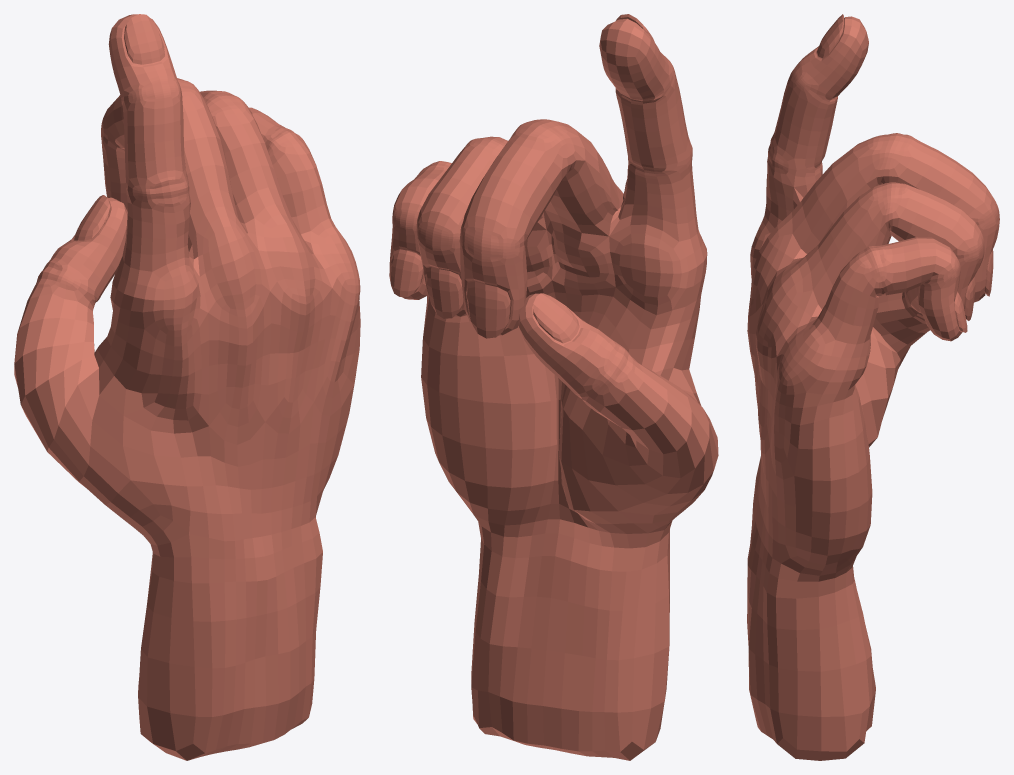
File: dhaal.glb
The picture shows the model from 3 angles, left to right: view 1: azimuth 30°, elevation 25°; view 2: azimuth 150°, elevation 25°; view 3: azimuth 270°, elevation 25°; orthographic projection. The views are drawn at different scales.
Parts seen in each view (by area): view 1: ZBrushPolyMesh3D; view 2: ZBrushPolyMesh3D; view 3: ZBrushPolyMesh3D.
Part boxes in pixels (box(x1,y1,x2,y2)): ZBrushPolyMesh3D: box(14, 14, 360, 760); ZBrushPolyMesh3D: box(389, 14, 718, 760); ZBrushPolyMesh3D: box(747, 14, 999, 760).
Bounding box in the file's own units: 2.23 × 5.17 × 1.73.
